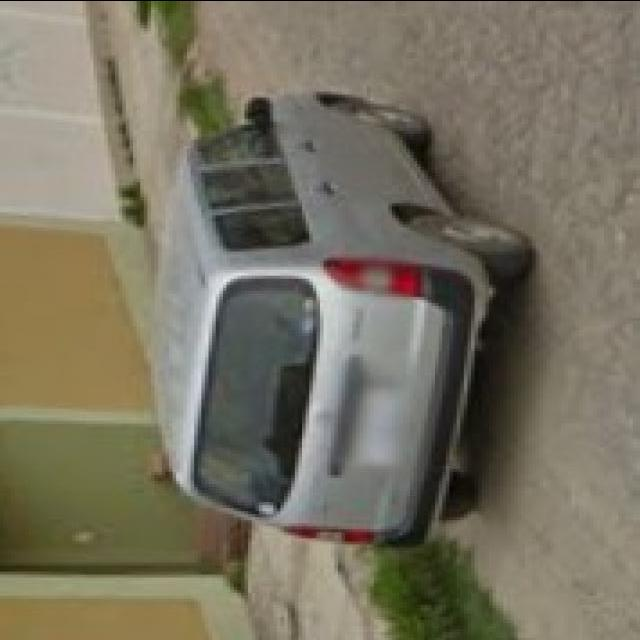car: (133, 66, 548, 574)
